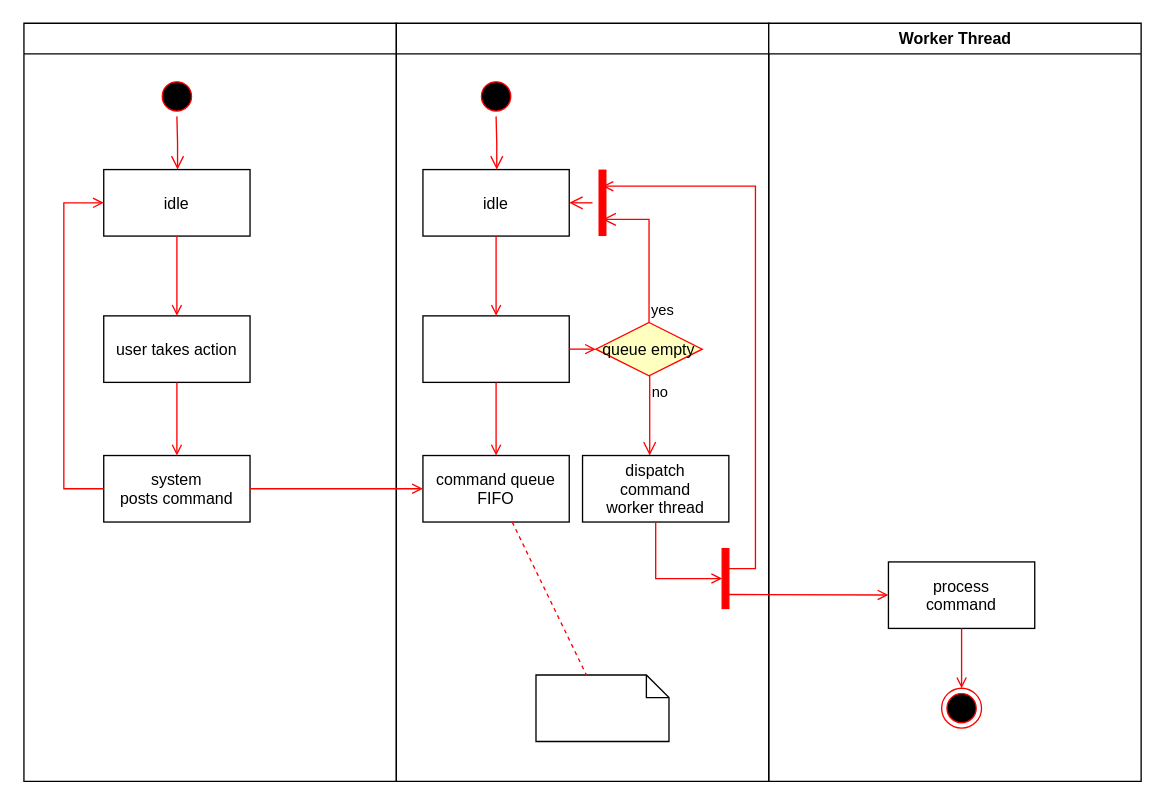
The diagram is 1164 pixels wide and 805 high, and some of its shapes have lost their labels. The shapes that lost their labels are listed below. From the top down, each one's box as (x1, y1, x2, y2) in pixels, then its label:
(422, 315, 569, 382): Keeps checking for new commands
(23, 22, 396, 781): Initiator Thread
(395, 22, 769, 781): Dispatcher Thread
(535, 674, 669, 741): critical section handles discrepancies
